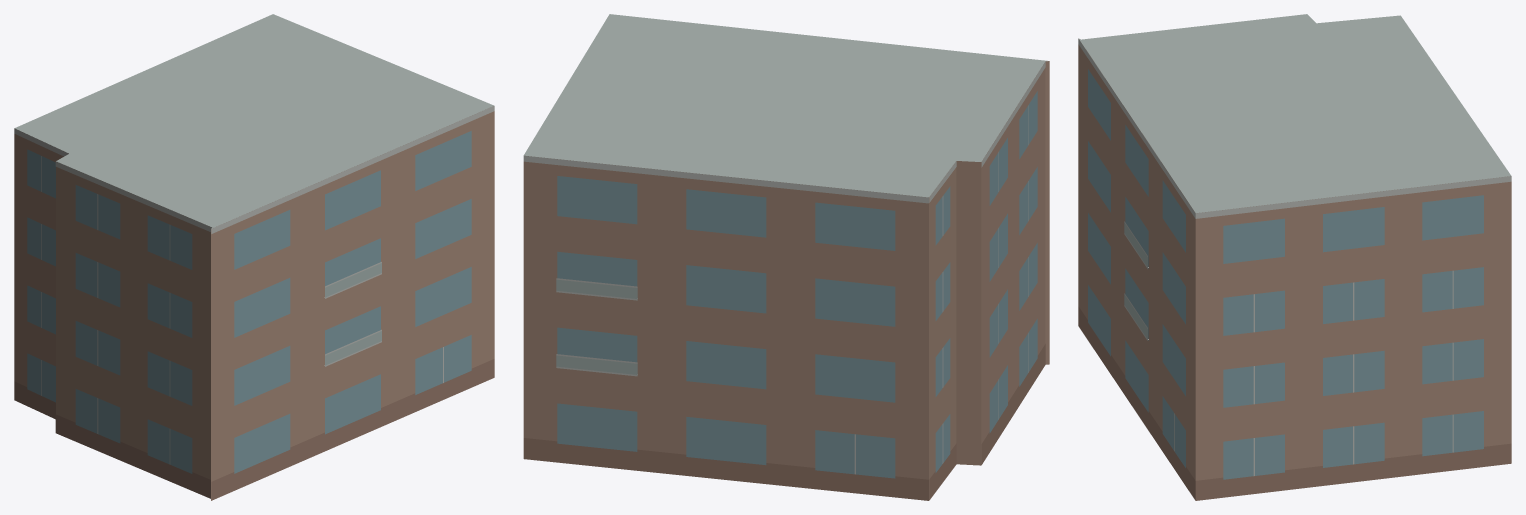
File: survey-upis-32813370.glb
3 renders of one model, left to right at view 1: azimuth 30°, elevation 25°; view 2: azimuth 150°, elevation 25°; view 3: azimuth 270°, elevation 25°, orthographic. The views are drawn at different scales.
Visible parts, largest first — view 1: survey-upis-32813370.tmp; view 2: survey-upis-32813370.tmp; view 3: survey-upis-32813370.tmp.
Boxes of the visible parts, x1,y1,x2,y2 form: survey-upis-32813370.tmp: (14, 14, 494, 500); survey-upis-32813370.tmp: (523, 14, 1049, 500); survey-upis-32813370.tmp: (1078, 14, 1511, 500).
Size of the model in its own units: 18.28 by 12.3 by 16.79.
